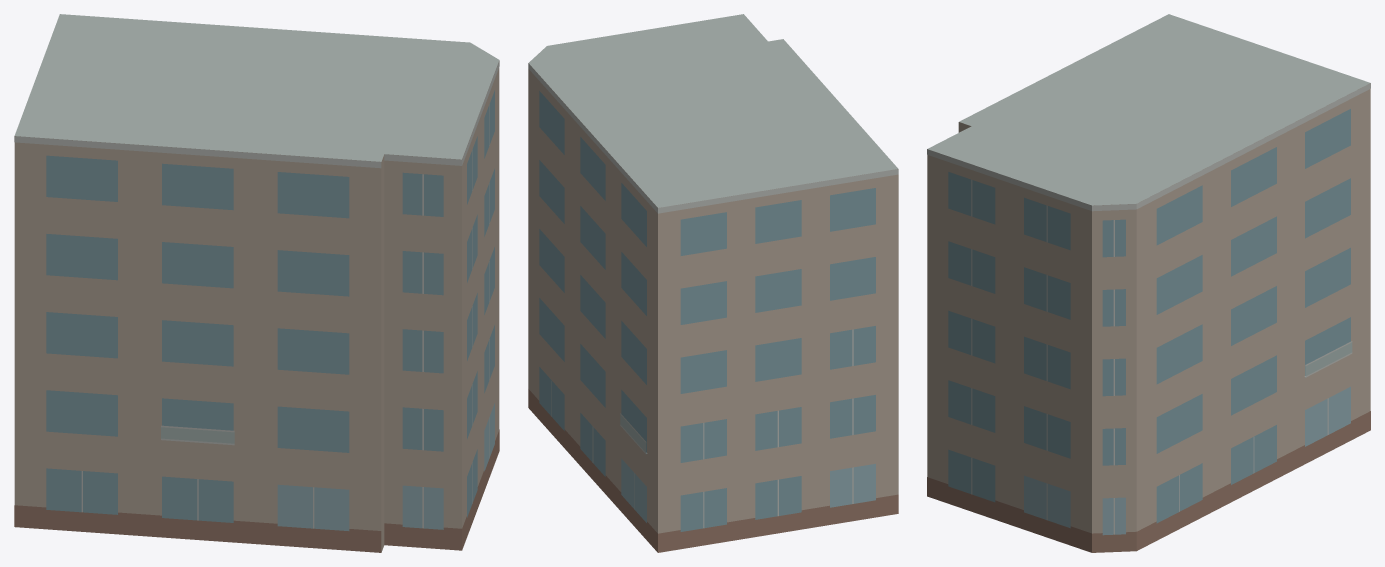
File: survey-upis-33023632.glb
3 renders of one model, left to right at view 1: azimuth 30°, elevation 25°; view 2: azimuth 150°, elevation 25°; view 3: azimuth 270°, elevation 25°, orthographic. The views are drawn at different scales.
Parts seen in each view (by area): view 1: survey-upis-33023632.tmp; view 2: survey-upis-33023632.tmp; view 3: survey-upis-33023632.tmp.
Boxes of the visible parts, x1,y1,x2,y2 form: survey-upis-33023632.tmp: (14, 14, 499, 552); survey-upis-33023632.tmp: (528, 14, 898, 552); survey-upis-33023632.tmp: (927, 14, 1370, 552).
Bounding box in the file's own units: 17.63 × 14.9 × 17.25.
